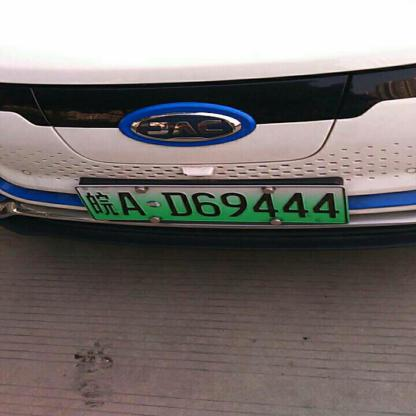lp: (75, 186, 347, 221)
